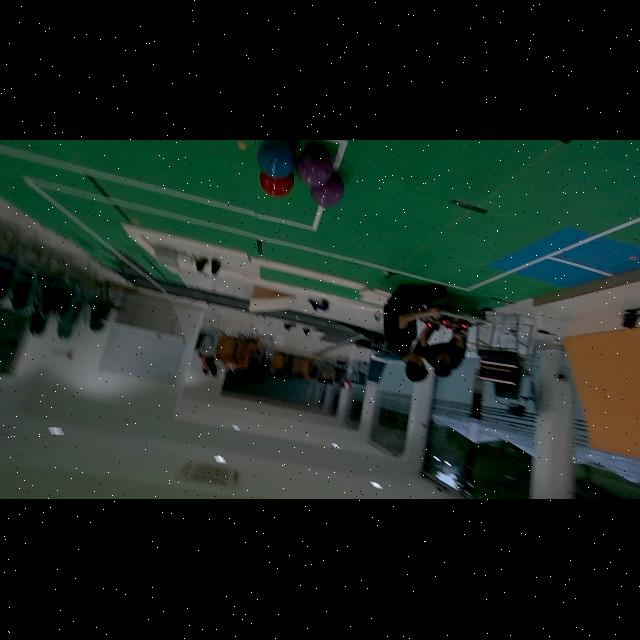B: (257, 140, 295, 180)
P: (297, 147, 333, 188), (311, 174, 344, 208)
R: (260, 173, 294, 199)
